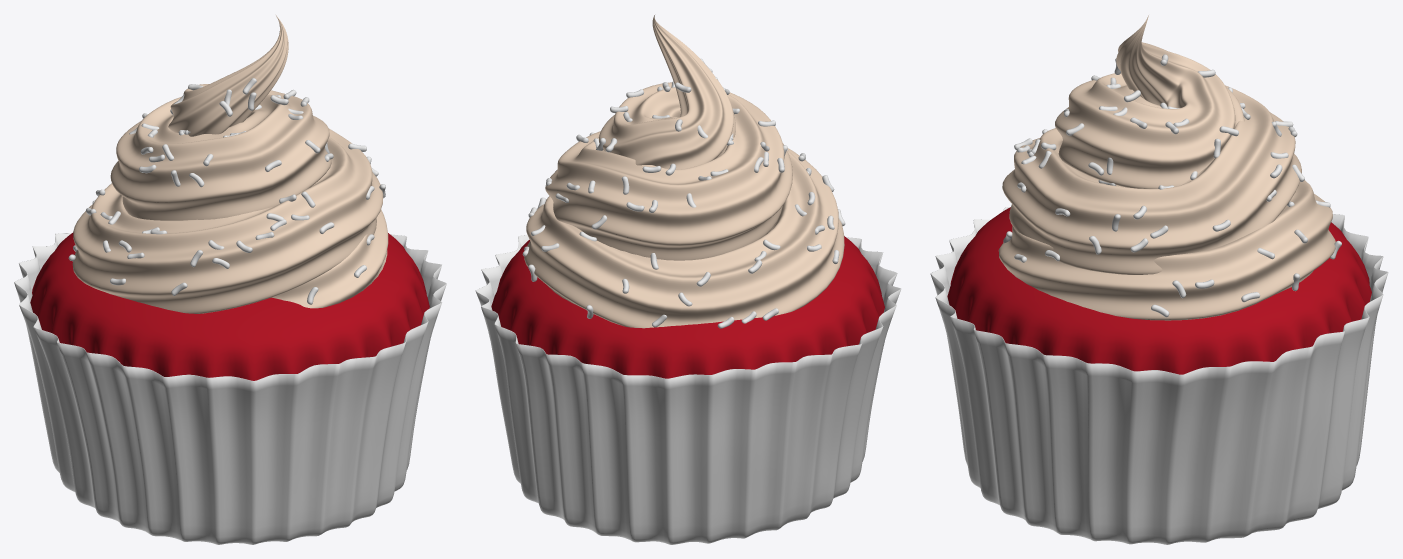
The picture shows the model from 3 angles, left to right: view 1: azimuth 30°, elevation 25°; view 2: azimuth 150°, elevation 25°; view 3: azimuth 270°, elevation 25°; orthographic projection. The views are drawn at different scales.
Visible parts, largest first — view 1: CUP, cream, cake; view 2: CUP, cream, cake; view 3: CUP, cream, cake.
Part boxes in pixels (x1,y1,x2,y2): CUP: [14, 233, 446, 544]; cream: [72, 15, 388, 313]; cake: [30, 232, 429, 380]; CUP: [475, 235, 901, 544]; cream: [524, 15, 844, 328]; cake: [491, 236, 884, 378]; CUP: [930, 207, 1388, 544]; cream: [998, 15, 1335, 320]; cake: [947, 207, 1371, 374].
Size of the model in its own units: 97.22 by 113 by 97.78.
